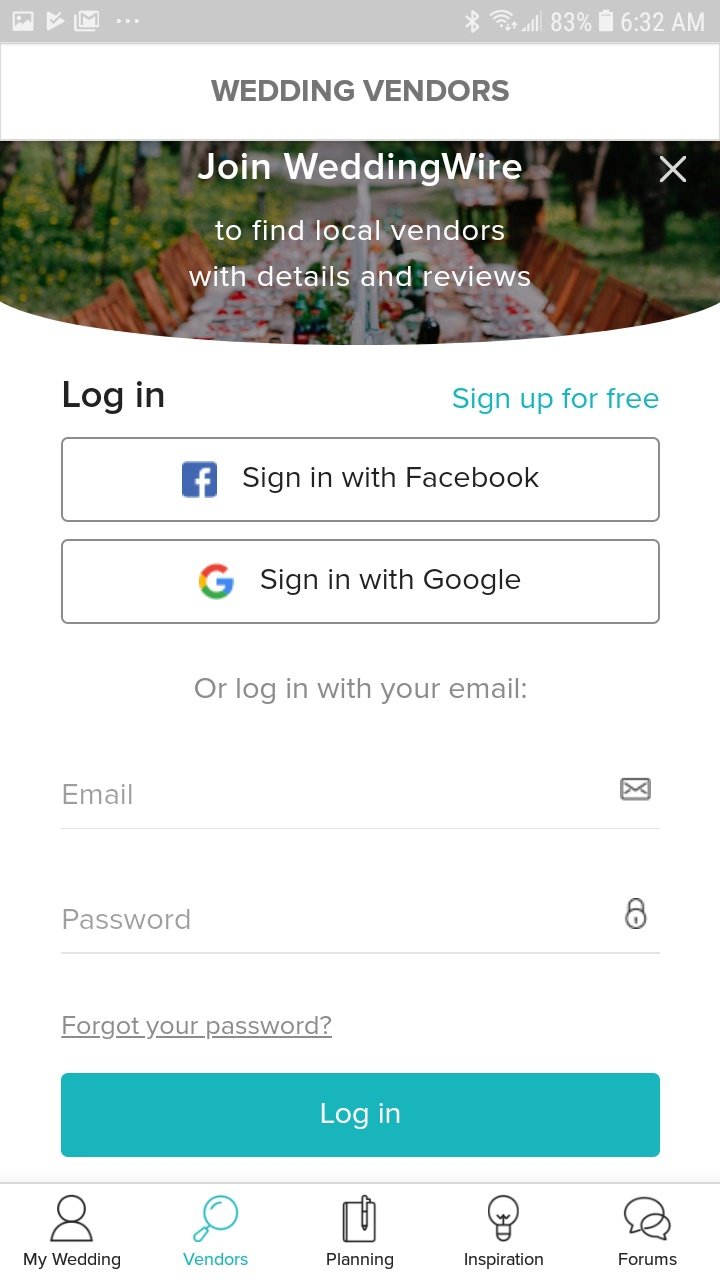EditText: (62, 898, 661, 955), (61, 777, 661, 830)
Icon: (193, 1195, 239, 1243), (624, 1196, 672, 1242), (50, 1194, 95, 1242), (342, 1194, 377, 1243), (620, 778, 652, 802), (624, 898, 647, 930), (660, 157, 687, 184)
Image: (1, 141, 720, 346), (488, 1194, 520, 1242)
Text: (198, 153, 523, 188), (195, 677, 527, 705), (189, 266, 531, 288), (61, 1015, 333, 1040), (211, 81, 510, 103), (215, 220, 505, 242), (453, 387, 660, 415), (65, 381, 165, 415), (64, 908, 191, 930), (24, 1253, 121, 1270), (64, 783, 133, 805), (465, 1253, 544, 1270), (327, 1253, 394, 1270), (183, 1253, 249, 1266), (619, 1252, 678, 1266)
TextButton: (62, 437, 661, 523), (62, 539, 661, 625), (61, 1073, 660, 1158)
UpperTaskBar: (1, 1, 720, 43)
